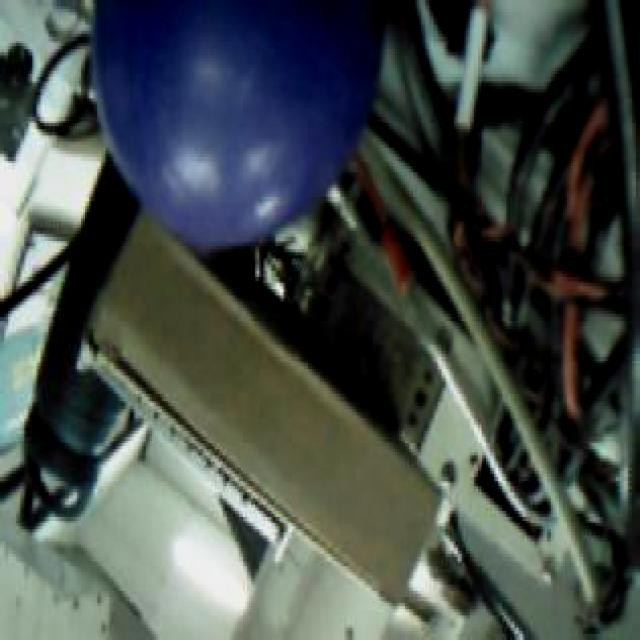BallPurple: (92, 0, 388, 254)
